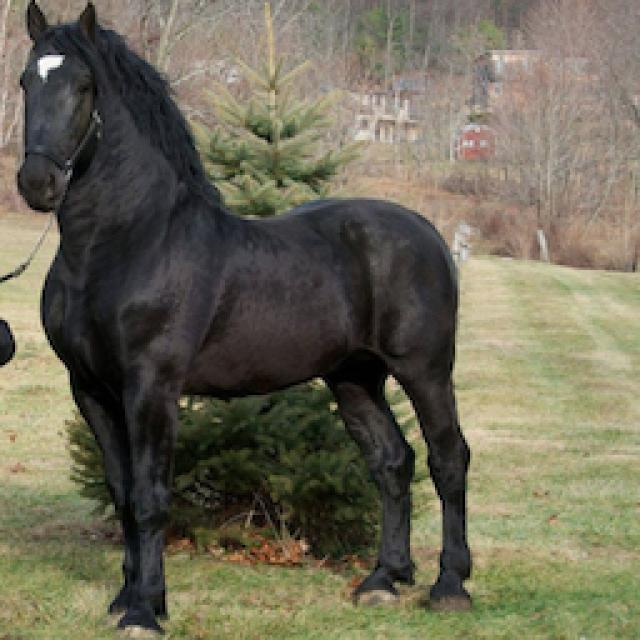Horse: (0, 0, 490, 638)
